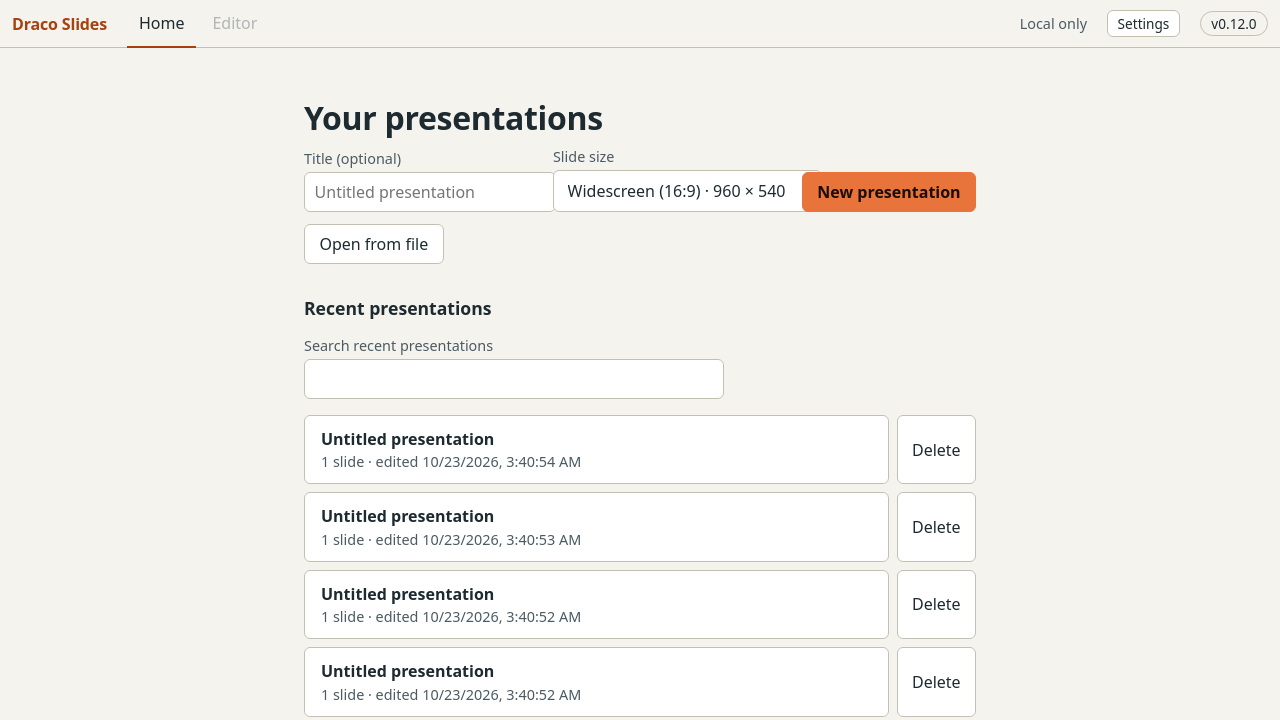
Scenario: text boxes on the canvas › an object cannot be dragged completely off the slide
The width and height of the screenshot is (1280, 720).
Click the button "New presentation": (889, 192) [802,172,976,212]
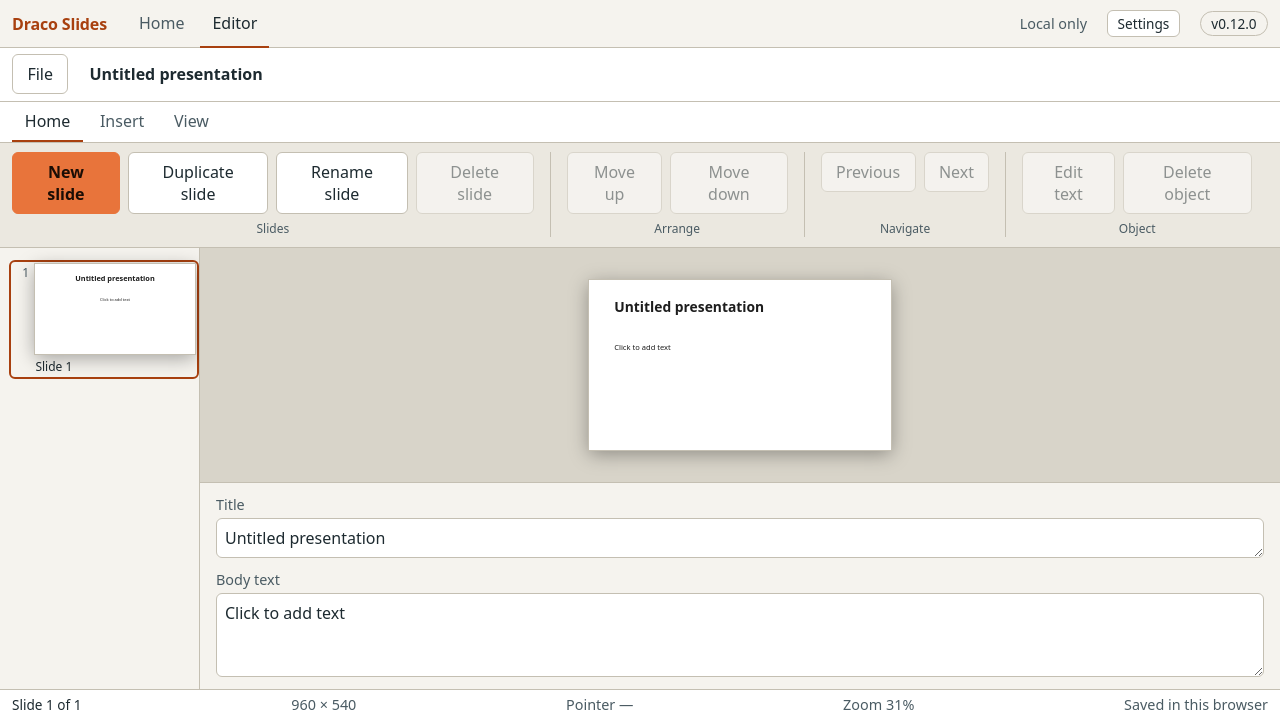
Click the tab "Insert": (122, 122) [87,102,157,142]
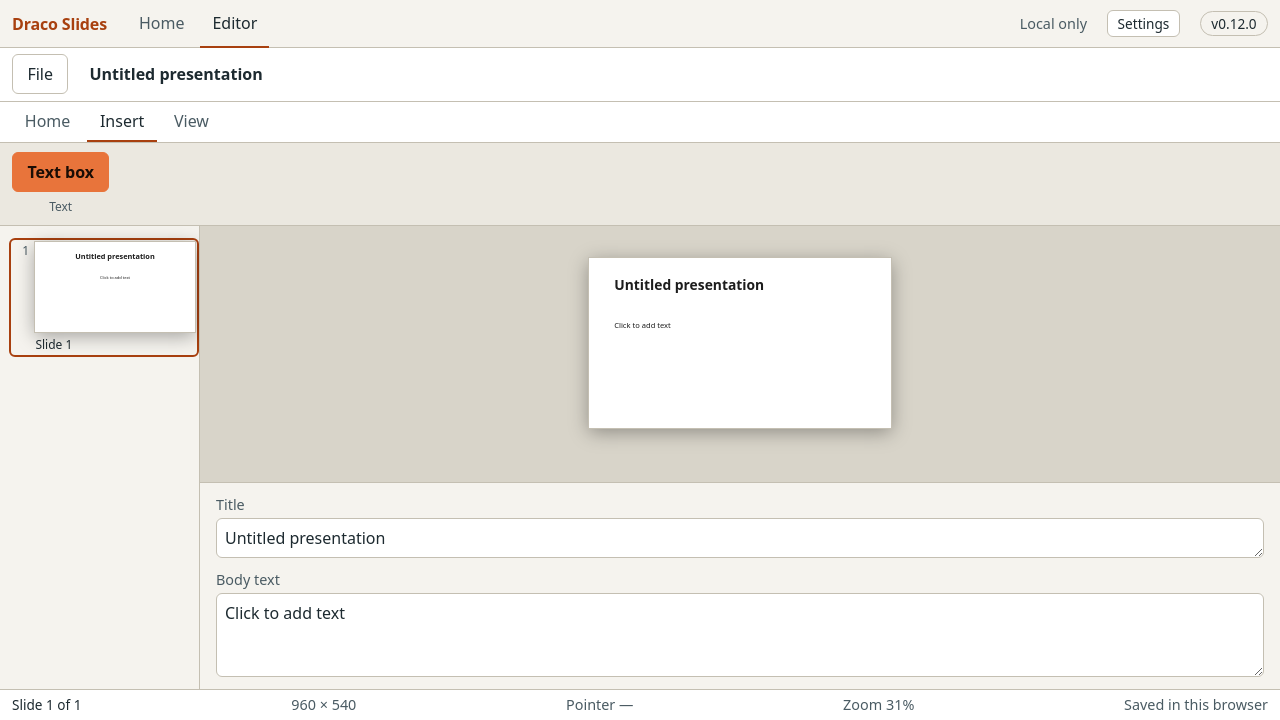
Click the button "Text box": (61, 172) [12,152,109,192]
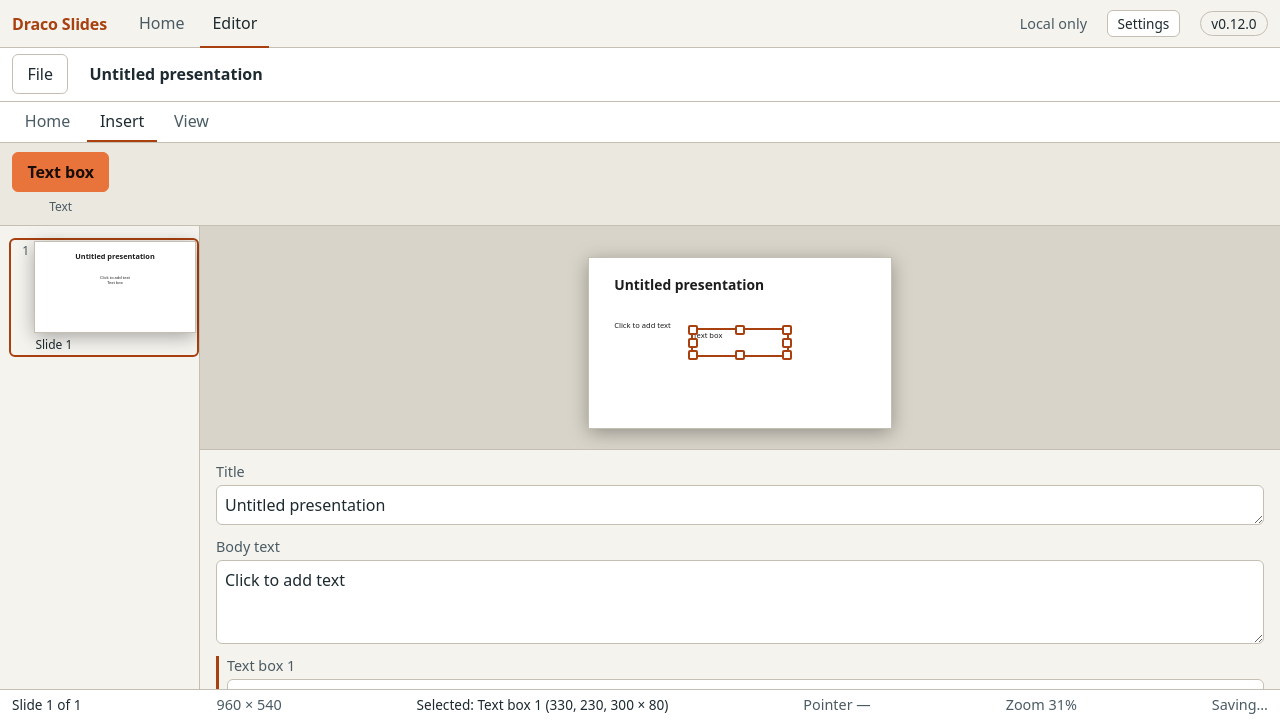
Click the tab "View": (191, 122) [161,102,222,142]
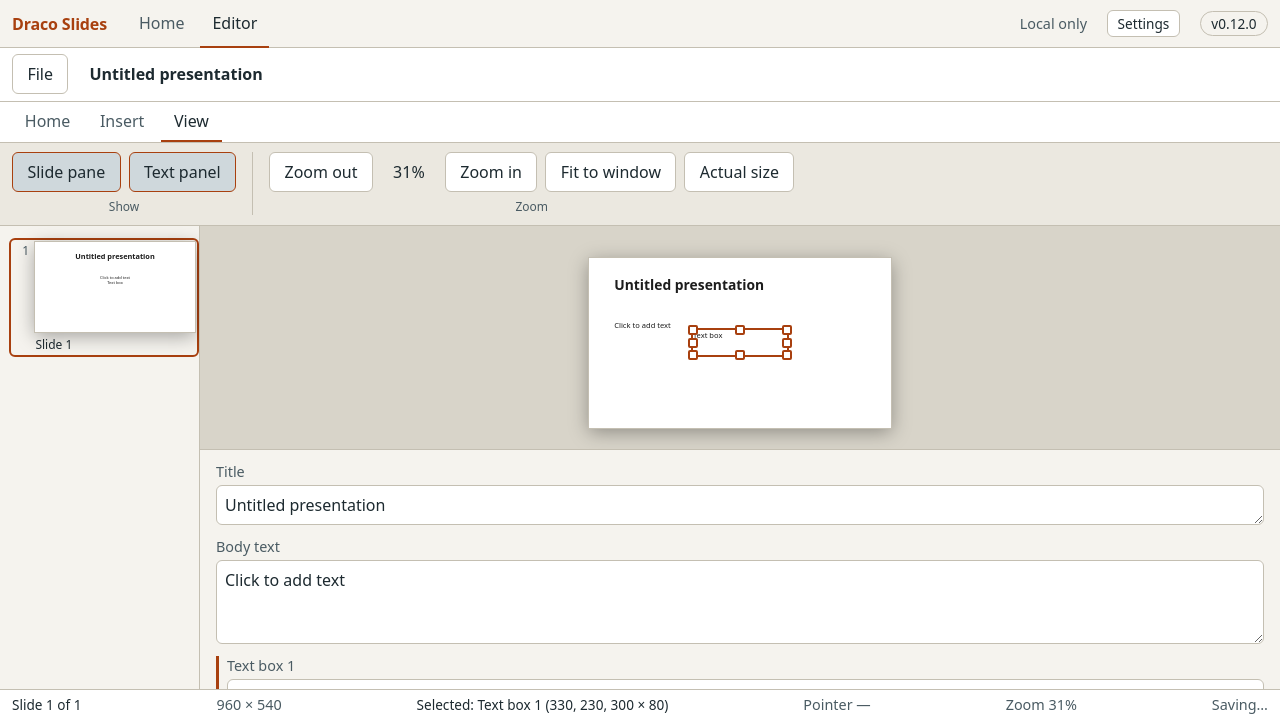
Click the button "Actual size": (740, 172) [684,152,794,192]
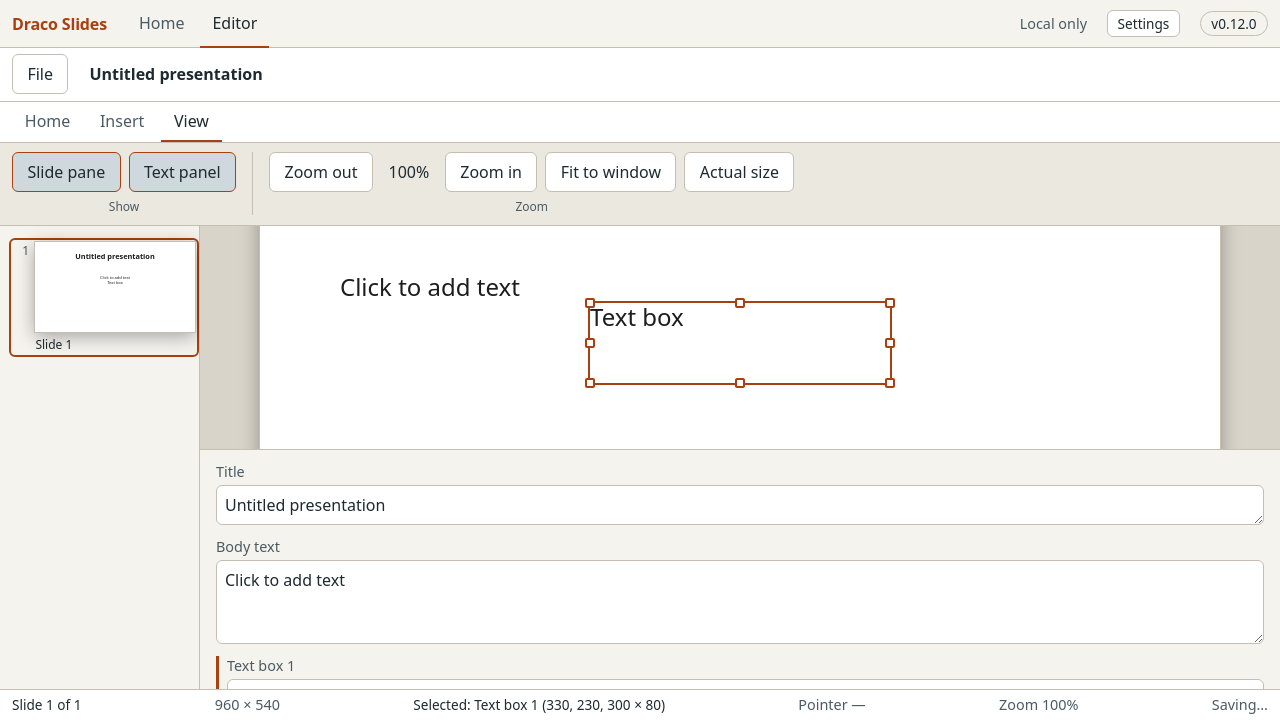
Press the mouse on the button named "Text box 1": (740, 343) [590,303,890,383]
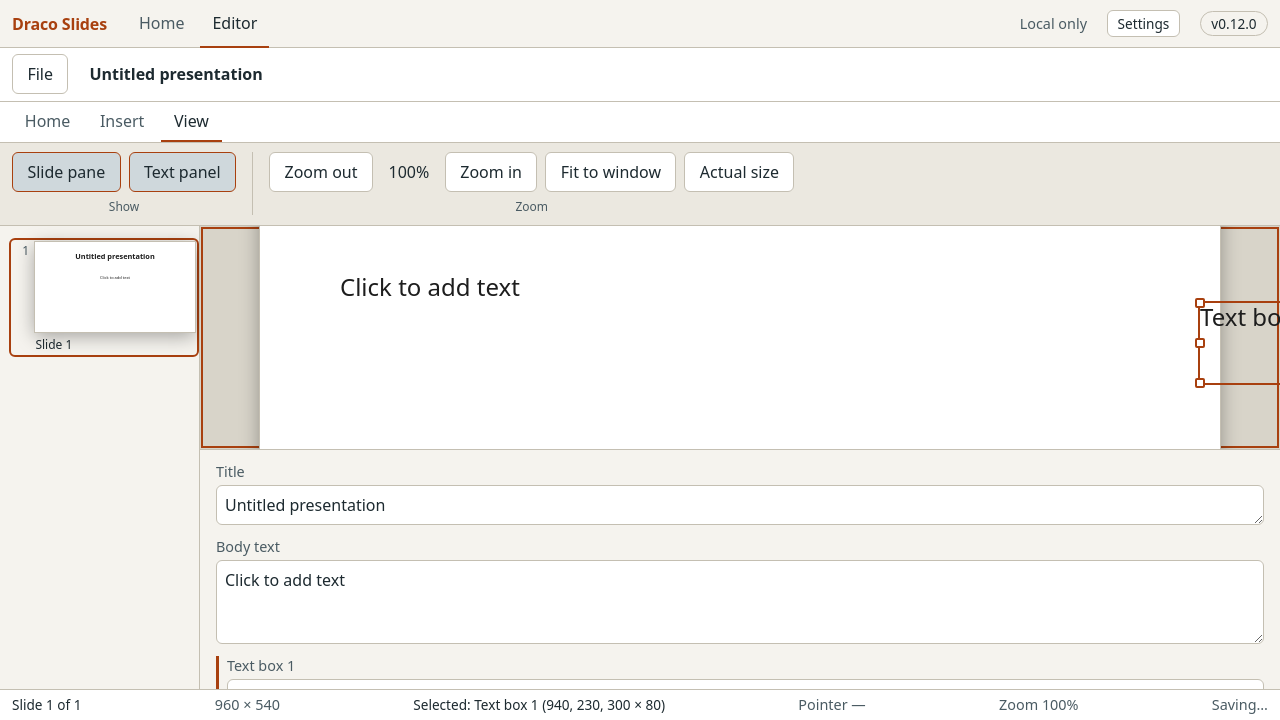
Check: the text "Selected: Text box 1 (940, 230, 300 × 80)" is shown, box [413,695,665,714]
